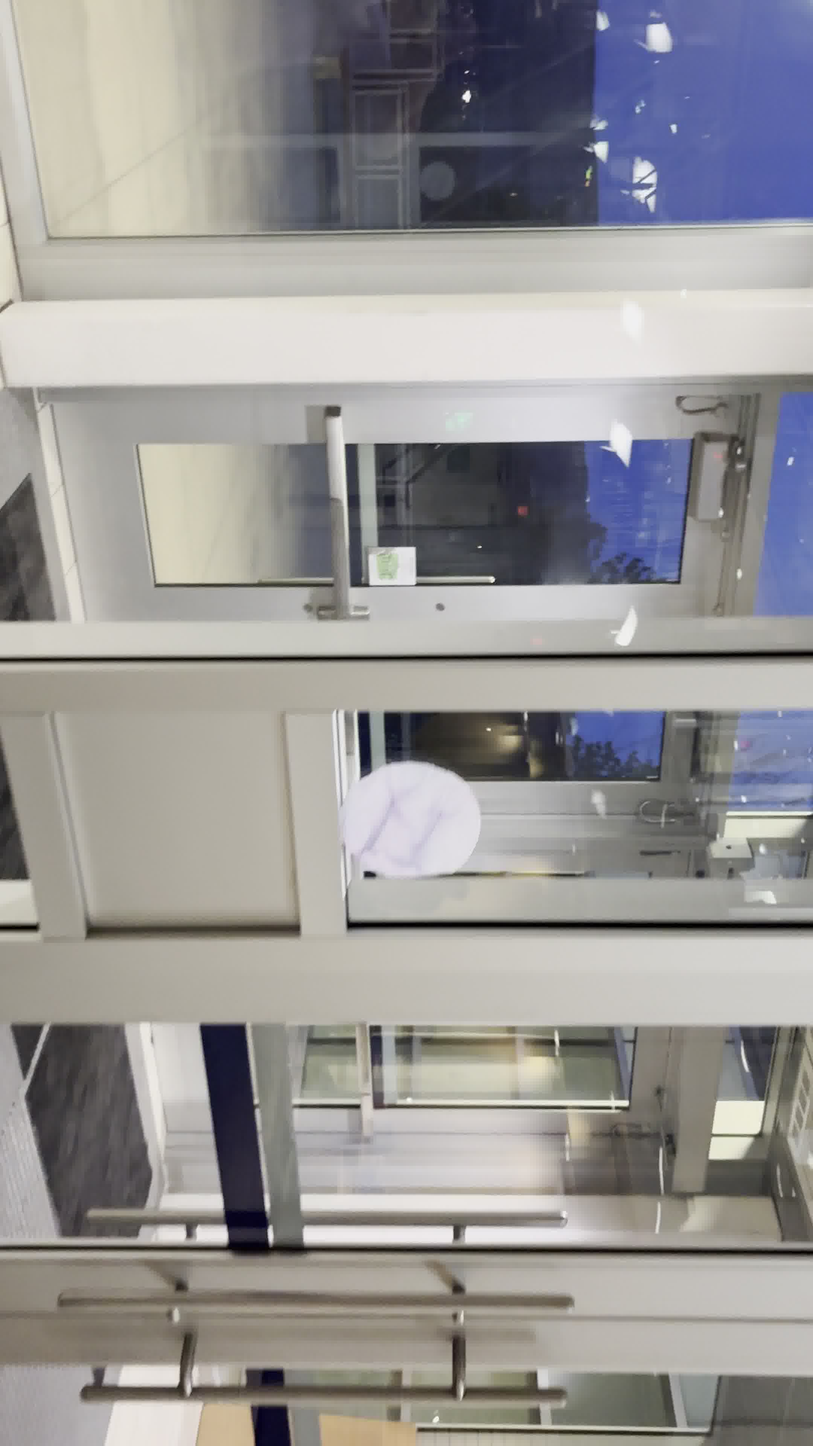Target: (336, 758, 482, 881)
